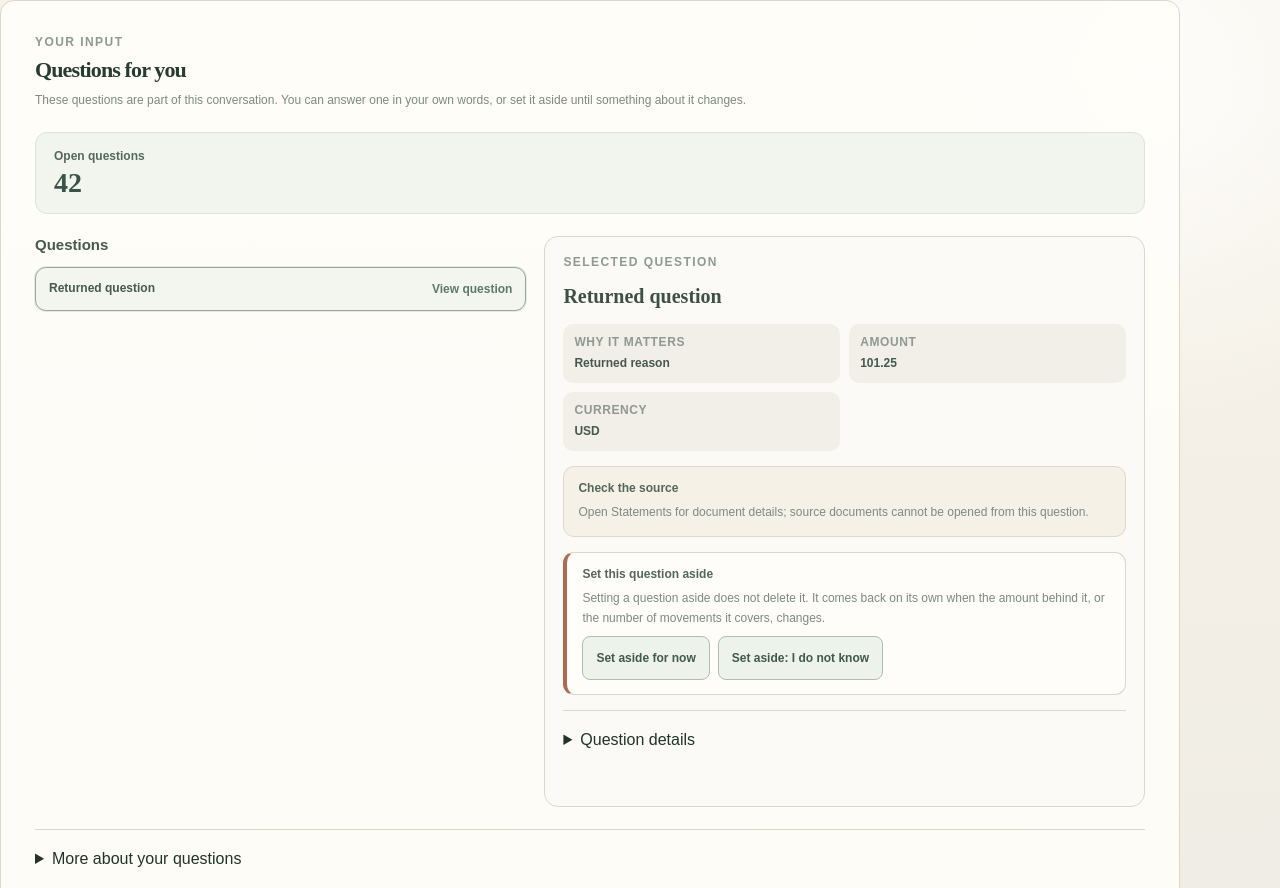
Test: Questions inside the conversation › renders live fields exactly and never combines supplied amount and currency
Expected: the text "Your input" is shown, 35,35 -> 123,49
Expected: the heading "Questions for you" is shown, 35,57 -> 186,82
What coordinates should you click on to do the following:
click the heading "Question details"
I would click on:
 (638, 739)
Its box is 580,731 -> 695,748.
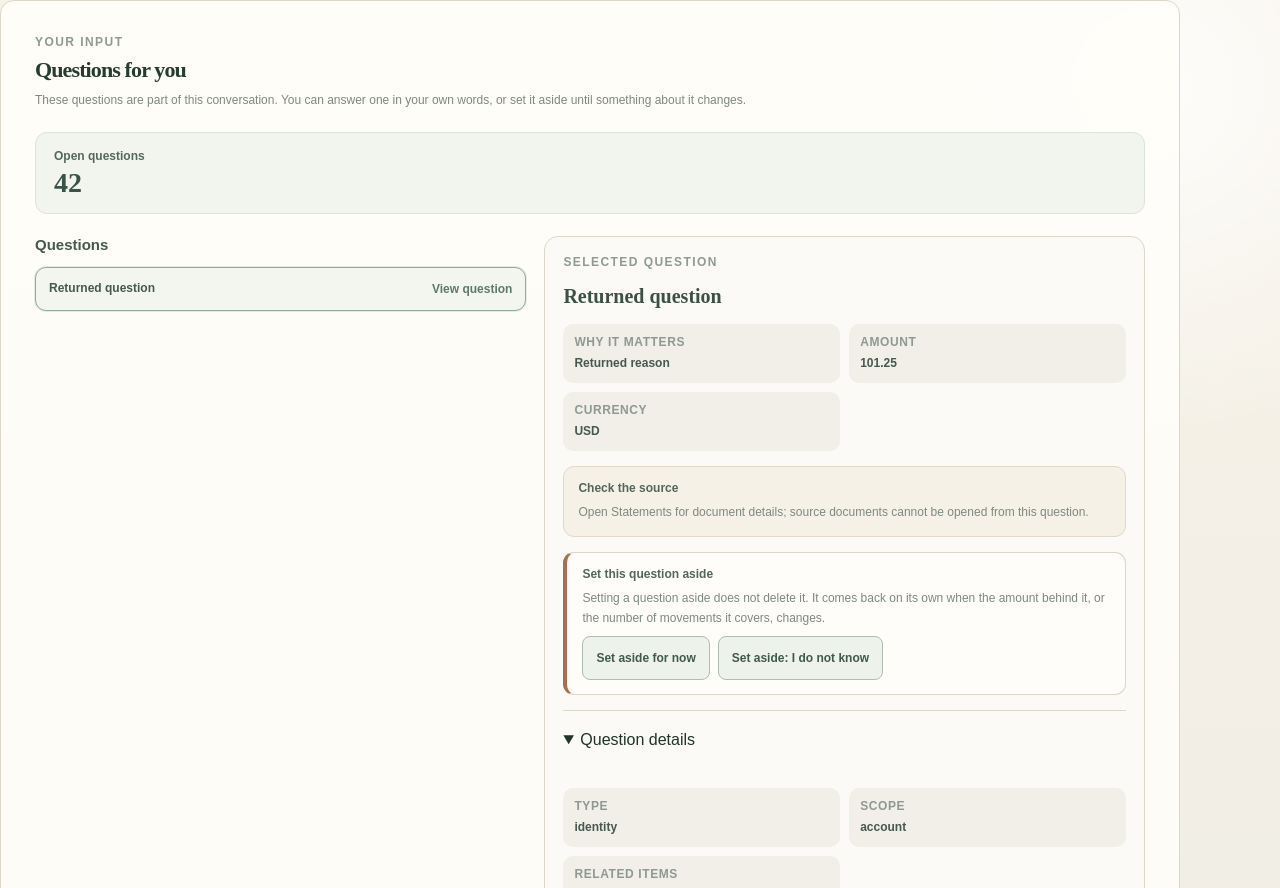
Expected: the text "Open Statements for document details; source documents cannot be opened from this question." is shown, 578,505 -> 1089,519
Expected: the text "identity" is shown, 574,820 -> 617,834
Expected: the text "account" is shown, 860,820 -> 906,834
